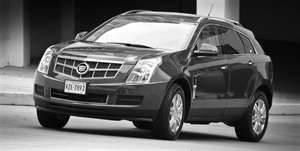car: (33, 10, 277, 145)
